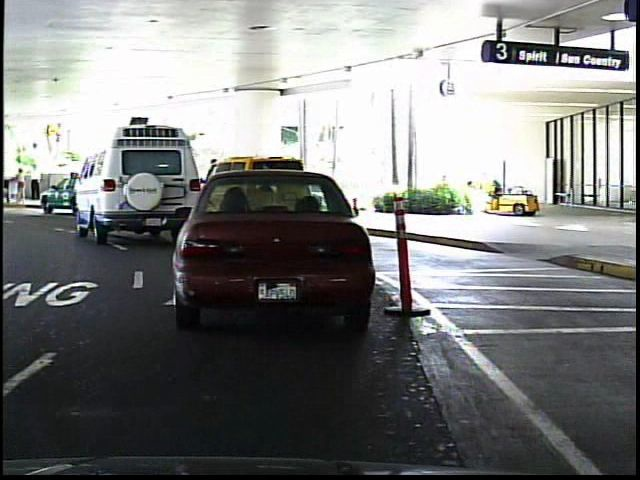person: (15, 165, 32, 204), (29, 160, 44, 202)
